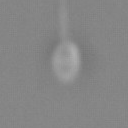normal: (53, 1, 76, 44)
